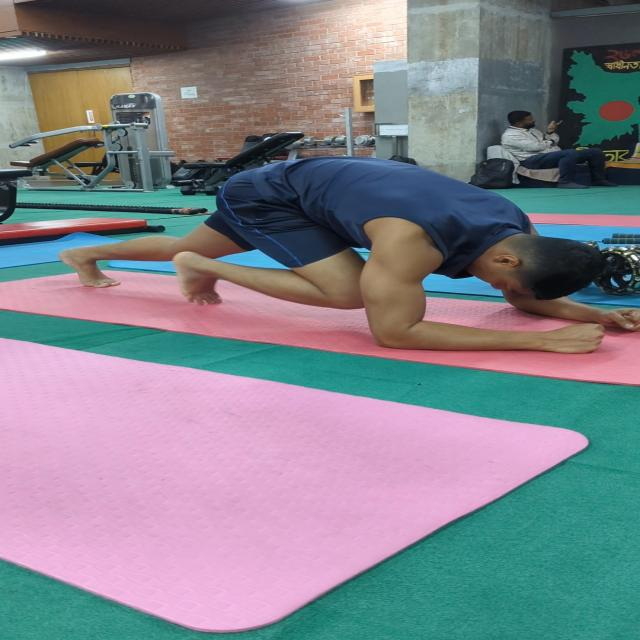Normal_MountainClimbers: (51, 125, 640, 354)
